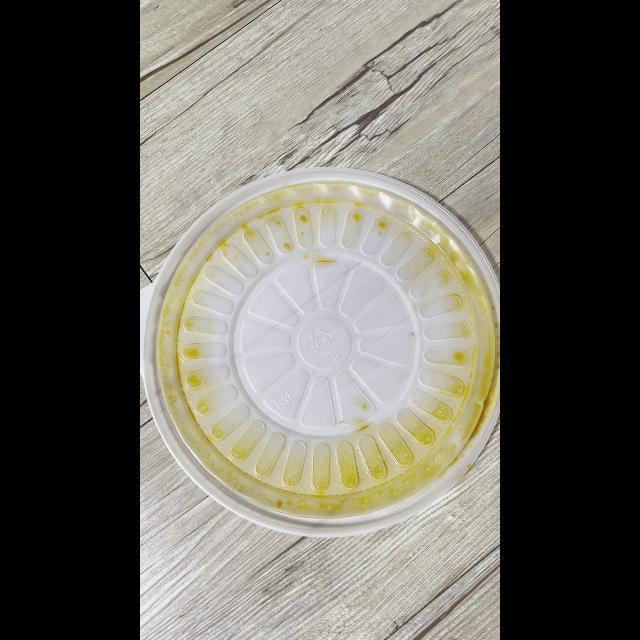dirty: (150, 176, 500, 534)
